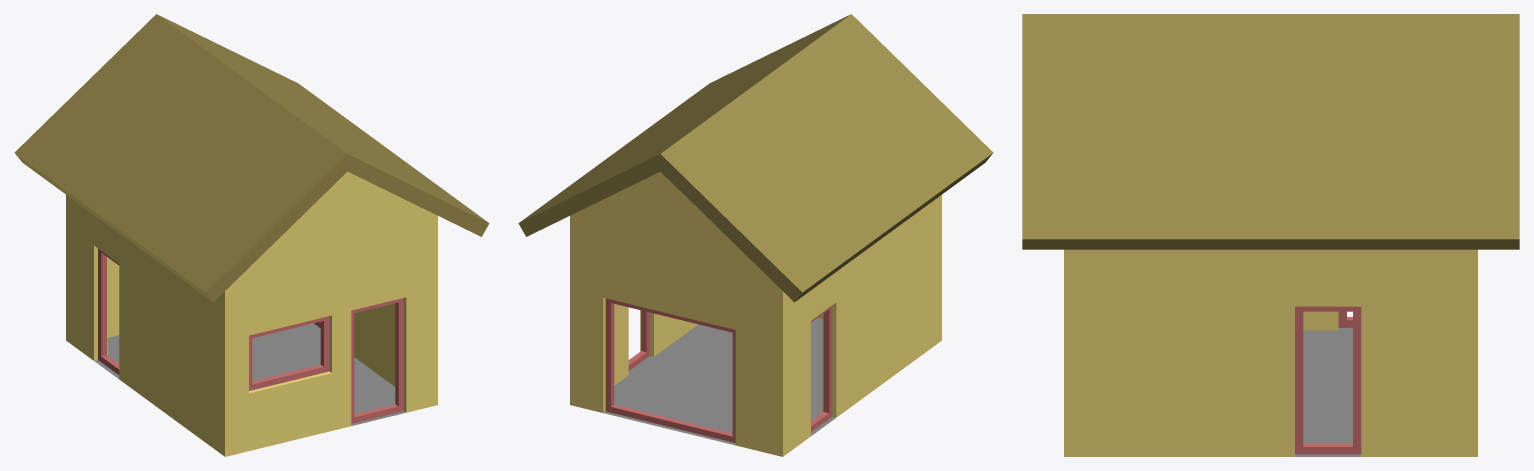
The model's file is result.glb.
The picture shows the model from 3 angles, left to right: view 1: azimuth 30°, elevation 25°; view 2: azimuth 150°, elevation 25°; view 3: azimuth 270°, elevation 25°; orthographic projection. The views are drawn at different scales.
Parts seen in each view (by area): view 1: 1e6ca090-918b-44e7-b3b0-4023f2dfe171__undefined, 7385f77c-725b-41e1-b461-788e95f9bd30__undefined (×2), f54e5b37-16f9-4422-97e4-8aaef4cf64c7__Plane_6, 073f0ff1-390e-4940-90ca-eac5796e6e45__Box, 0b1b693b-c421-4661-a826-e401defe7b8e__Box_3, af3bafaf-57b2-4c7f-9ecd-3cc6550370d7__Box_12; view 2: 7385f77c-725b-41e1-b461-788e95f9bd30__undefined (×2), 1e6ca090-918b-44e7-b3b0-4023f2dfe171__undefined, f54e5b37-16f9-4422-97e4-8aaef4cf64c7__Plane_6, 80857417-cf0a-43c2-9344-9c986b96e847__Box_9, af3bafaf-57b2-4c7f-9ecd-3cc6550370d7__Box_12, 760beeee-7650-446e-a467-924f1265e68a__Box_15; view 3: 7385f77c-725b-41e1-b461-788e95f9bd30__undefined, 1e6ca090-918b-44e7-b3b0-4023f2dfe171__undefined, f54e5b37-16f9-4422-97e4-8aaef4cf64c7__Plane_6, 760beeee-7650-446e-a467-924f1265e68a__Box_15.
Boxes of the visible parts, left/top/right/bottom form: 1e6ca090-918b-44e7-b3b0-4023f2dfe171__undefined: left=66, top=171, right=437, bottom=456; 7385f77c-725b-41e1-b461-788e95f9bd30__undefined (×2): left=14, top=14, right=489, bottom=302; f54e5b37-16f9-4422-97e4-8aaef4cf64c7__Plane_6: left=94, top=323, right=405, bottom=425; 073f0ff1-390e-4940-90ca-eac5796e6e45__Box: left=351, top=298, right=403, bottom=423; 0b1b693b-c421-4661-a826-e401defe7b8e__Box_3: left=249, top=316, right=329, bottom=390; af3bafaf-57b2-4c7f-9ecd-3cc6550370d7__Box_12: left=98, top=248, right=119, bottom=374; 7385f77c-725b-41e1-b461-788e95f9bd30__undefined (×2): left=518, top=14, right=993, bottom=302; 1e6ca090-918b-44e7-b3b0-4023f2dfe171__undefined: left=570, top=171, right=941, bottom=456; f54e5b37-16f9-4422-97e4-8aaef4cf64c7__Plane_6: left=603, top=318, right=835, bottom=445; 80857417-cf0a-43c2-9344-9c986b96e847__Box_9: left=605, top=298, right=735, bottom=442; af3bafaf-57b2-4c7f-9ecd-3cc6550370d7__Box_12: left=811, top=305, right=832, bottom=431; 760beeee-7650-446e-a467-924f1265e68a__Box_15: left=628, top=310, right=649, bottom=370; 7385f77c-725b-41e1-b461-788e95f9bd30__undefined: left=1022, top=14, right=1519, bottom=249; 1e6ca090-918b-44e7-b3b0-4023f2dfe171__undefined: left=1064, top=249, right=1477, bottom=456; f54e5b37-16f9-4422-97e4-8aaef4cf64c7__Plane_6: left=1295, top=328, right=1361, bottom=456; 760beeee-7650-446e-a467-924f1265e68a__Box_15: left=1295, top=306, right=1361, bottom=454.
Bounding box in the file's own units: 515 × 500 × 600.
